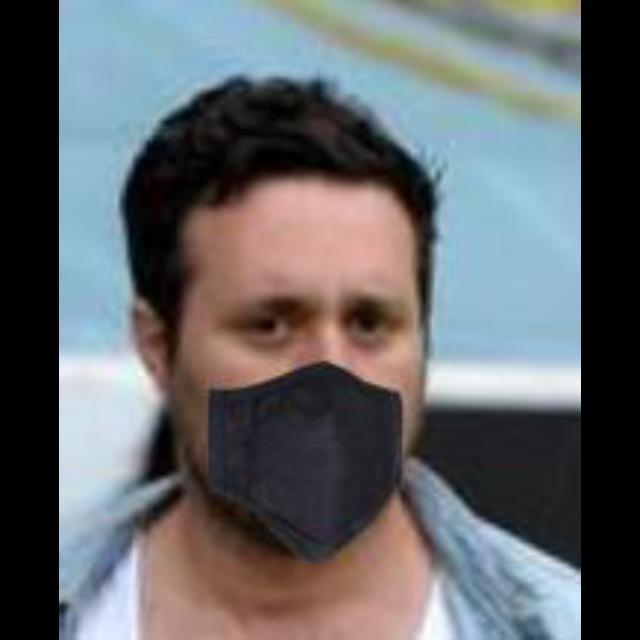1_mascarilla: (203, 368, 406, 565)
